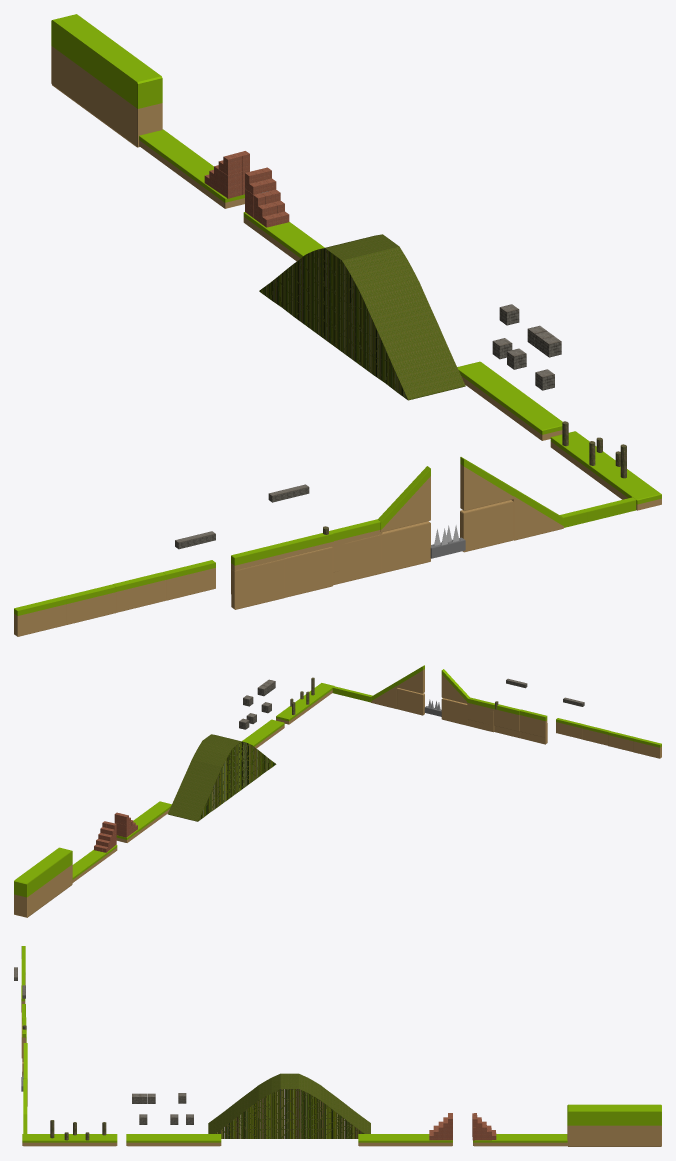
Rendered from Stage01.fbx.
3 views of the same model, one above another, from view 1: azimuth 30°, elevation 25°; view 2: azimuth 150°, elevation 25°; view 3: azimuth 270°, elevation 25° (orthographic). The views are drawn at different scales.
Visible parts, largest first — view 1: hill, WalkArea_20, WalkArea_19, Block, WalkArea_18, WalkArea__, WalkArea_10, WalkArea_14, WalkArea_11, WalkArea_13, WalkArea_7, WalkArea_8 (+9 smaller); view 2: hill, WalkArea_20, Block, WalkArea_18, WalkArea_, WalkArea__, WalkArea_4, WalkArea_10, WalkArea_11, WalkArea_5, WalkArea_19, WalkArea_7 (+7 smaller); view 3: hill, WalkArea_20, WalkArea_19, WalkArea_18, WalkArea_, WalkArea__, Block, Cylinder.
Boxes of the visible parts, x1=… form: hill: x1=259, y1=234, x2=465, y2=400; WalkArea_20: x1=51, y1=14, x2=162, y2=147; WalkArea_19: x1=457, y1=361, x2=562, y2=440; Block: x1=175, y1=304, x2=561, y2=549; WalkArea_18: x1=550, y1=431, x2=661, y2=510; WalkArea__: x1=139, y1=129, x2=244, y2=208; WalkArea_10: x1=460, y1=500, x2=513, y2=552; WalkArea_14: x1=231, y1=559, x2=284, y2=609; WalkArea_11: x1=381, y1=521, x2=430, y2=573; WalkArea_13: x1=284, y1=547, x2=332, y2=597; WalkArea_7: x1=378, y1=466, x2=430, y2=532; WalkArea_8: x1=460, y1=457, x2=513, y2=510; hill: x1=167, y1=734, x2=276, y2=821; WalkArea_20: x1=14, y1=847, x2=72, y2=917; Block: x1=239, y1=678, x2=584, y2=729; WalkArea_18: x1=276, y1=683, x2=334, y2=724; WalkArea_: x1=116, y1=801, x2=171, y2=842; WalkArea__: x1=72, y1=845, x2=117, y2=882; WalkArea_4: x1=519, y1=709, x2=547, y2=737; WalkArea_10: x1=397, y1=688, x2=424, y2=715; WalkArea_11: x1=441, y1=698, x2=467, y2=725; WalkArea_5: x1=493, y1=703, x2=520, y2=731; WalkArea_19: x1=242, y1=719, x2=284, y2=748; WalkArea_7: x1=441, y1=669, x2=469, y2=703; hill: x1=208, y1=1073, x2=370, y2=1138; WalkArea_20: x1=567, y1=1104, x2=661, y2=1146; WalkArea_19: x1=126, y1=1134, x2=221, y2=1146; WalkArea_18: x1=22, y1=1134, x2=117, y2=1146; WalkArea_: x1=358, y1=1134, x2=452, y2=1146; WalkArea__: x1=473, y1=1134, x2=567, y2=1146; Block: x1=14, y1=967, x2=193, y2=1124; Cylinder: x1=22, y1=1025, x2=106, y2=1140.
Size of the model in its own units: 1289 by 203 by 2052.
8 materials, 7 textured.
